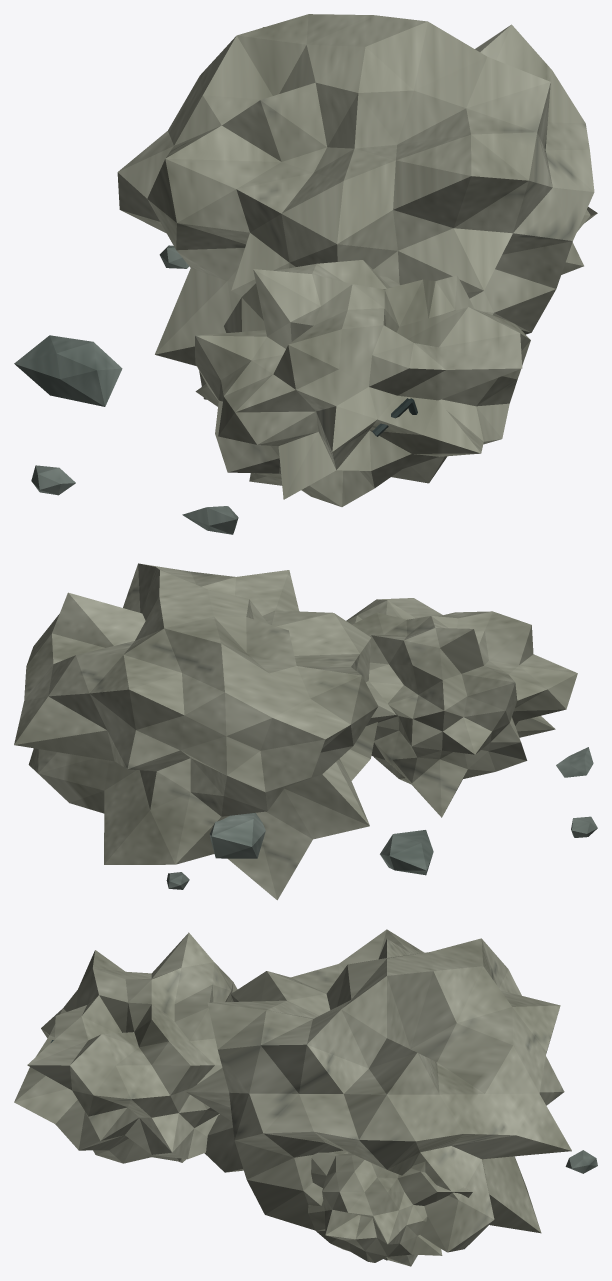
The model's file is 0006_boulder_06.glb.
3 renders of one model, top to bottom at view 1: azimuth 30°, elevation 25°; view 2: azimuth 150°, elevation 25°; view 3: azimuth 270°, elevation 25°, orthographic. The views are drawn at different scales.
Visible parts, largest first — view 1: stone_light, stone; view 2: stone_light, stone; view 3: stone_light, stone.
Part boxes in pixels (left/top/right/bottom): stone_light: left=117, top=14, right=597, bottom=506; stone: left=14, top=245, right=238, bottom=534; stone_light: left=14, top=563, right=577, bottom=900; stone: left=166, top=747, right=597, bottom=889; stone_light: left=14, top=929, right=571, bottom=1266; stone: left=565, top=1150, right=597, bottom=1173.
Bounding box in the file's own units: 2.45 × 1.29 × 2.25.
3 materials, 3 textured.
